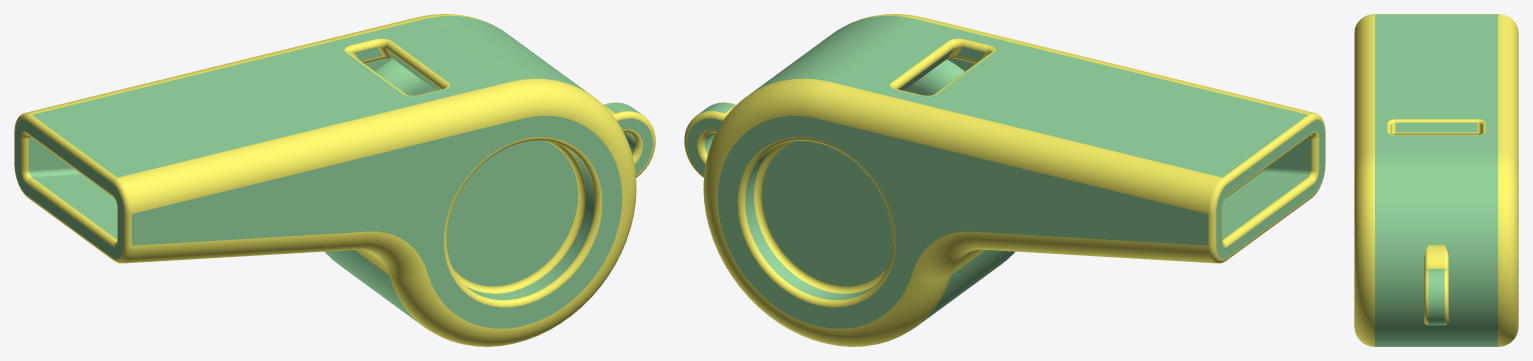
File: whistle.glb
The picture shows the model from 3 angles, left to right: view 1: azimuth 30°, elevation 25°; view 2: azimuth 150°, elevation 25°; view 3: azimuth 270°, elevation 25°; orthographic projection. The views are drawn at different scales.
Visible parts, largest first — view 1: A-002.SLDPRT; view 2: A-002.SLDPRT; view 3: A-002.SLDPRT.
Part boxes in pixels (bbox=[...]): A-002.SLDPRT: bbox=[14, 14, 655, 346]; A-002.SLDPRT: bbox=[684, 14, 1325, 346]; A-002.SLDPRT: bbox=[1354, 14, 1518, 346].
Size of the model in its own units: 0.0585 by 0.025 by 0.02.
